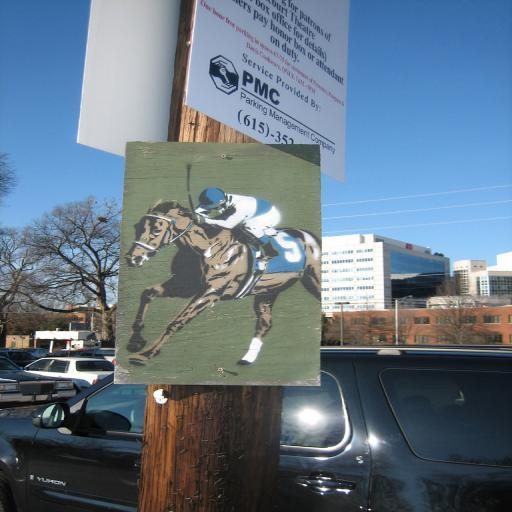horse: (121, 198, 321, 365)
